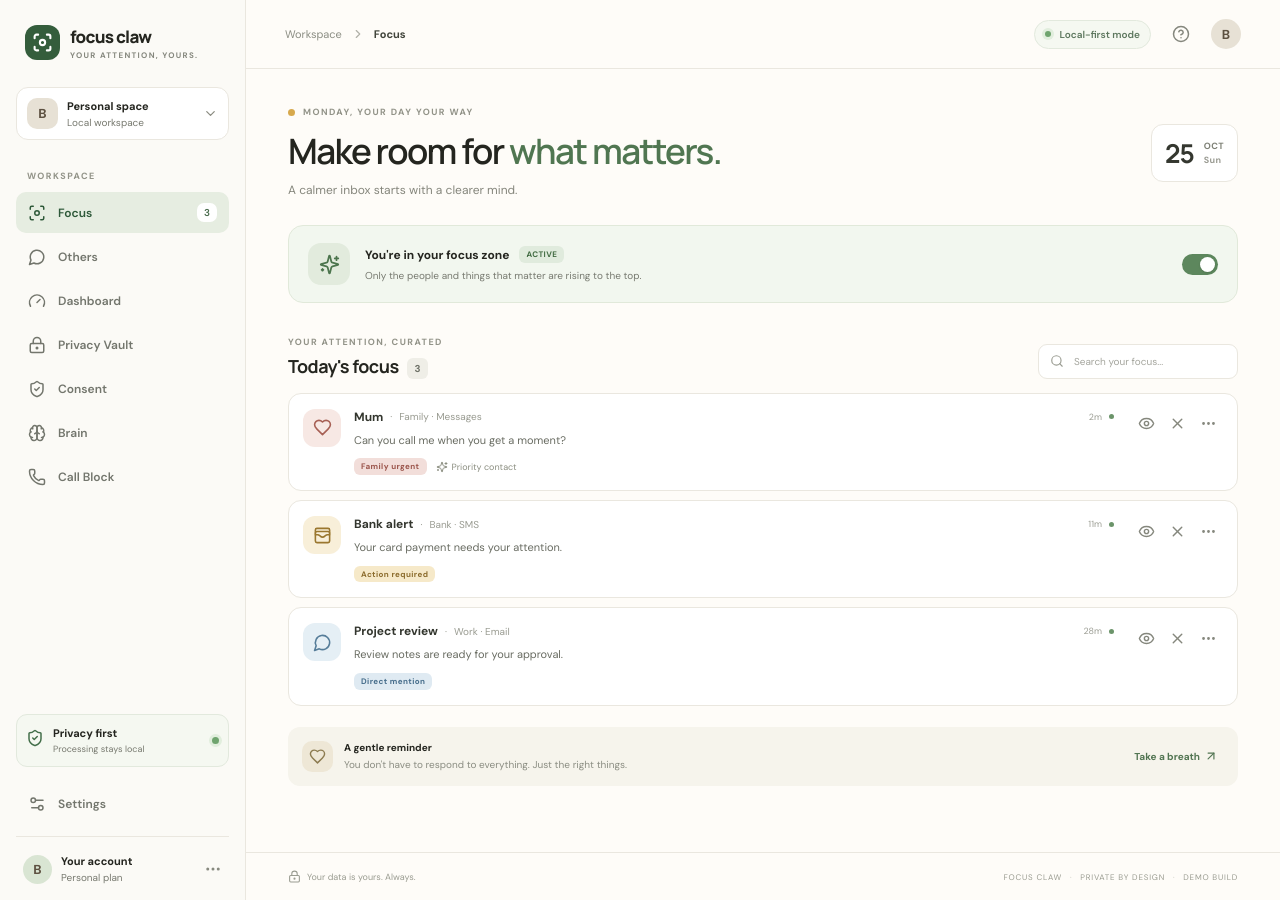
Scenario: Focus Claw demo › can add a local demo blocked number
Click the button "Call Block" at point(122, 477), box left=16, top=457, right=229, bottom=497
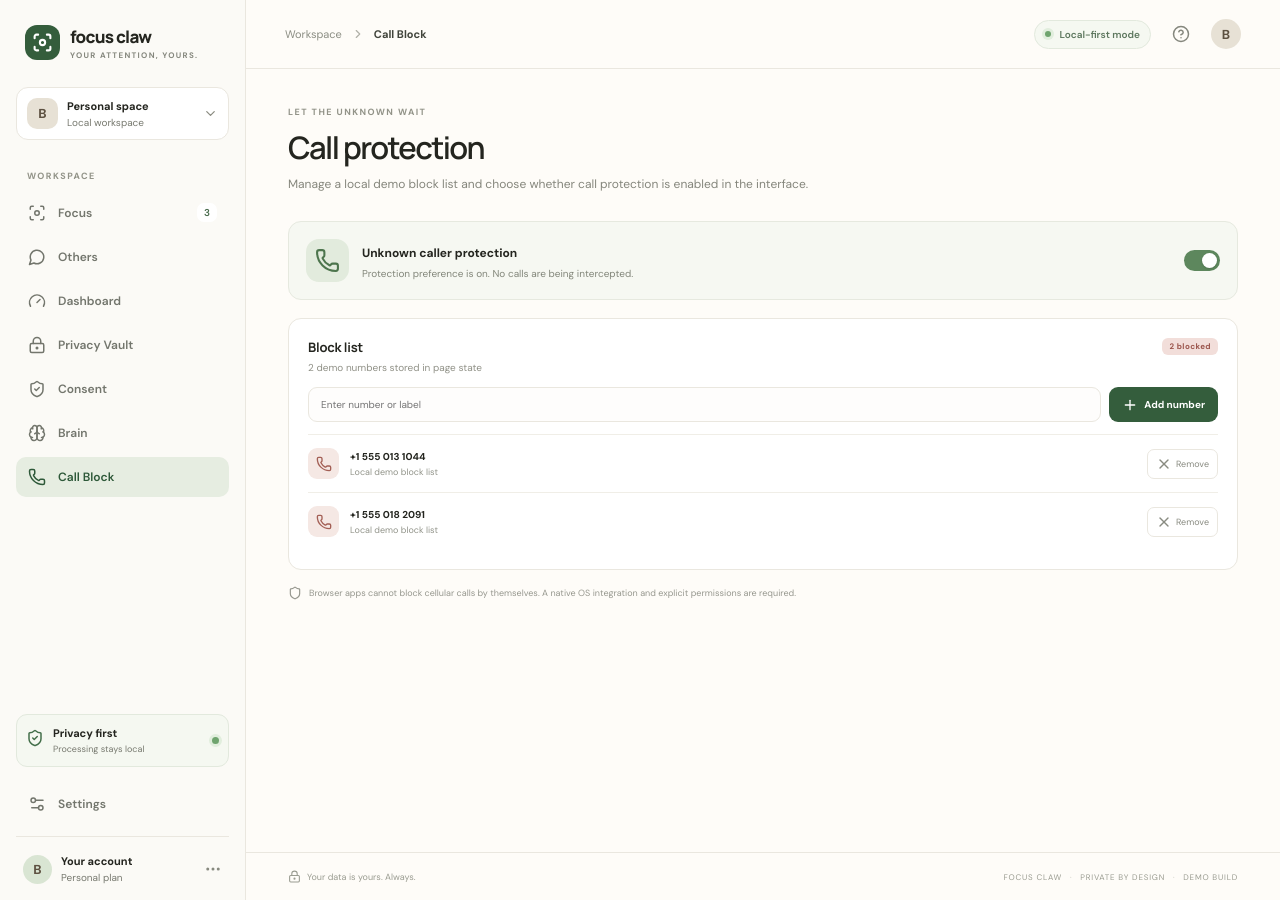
Type "+91 90000 00000" into the field named "Number to block" at point(705, 405), box left=308, top=387, right=1101, bottom=422
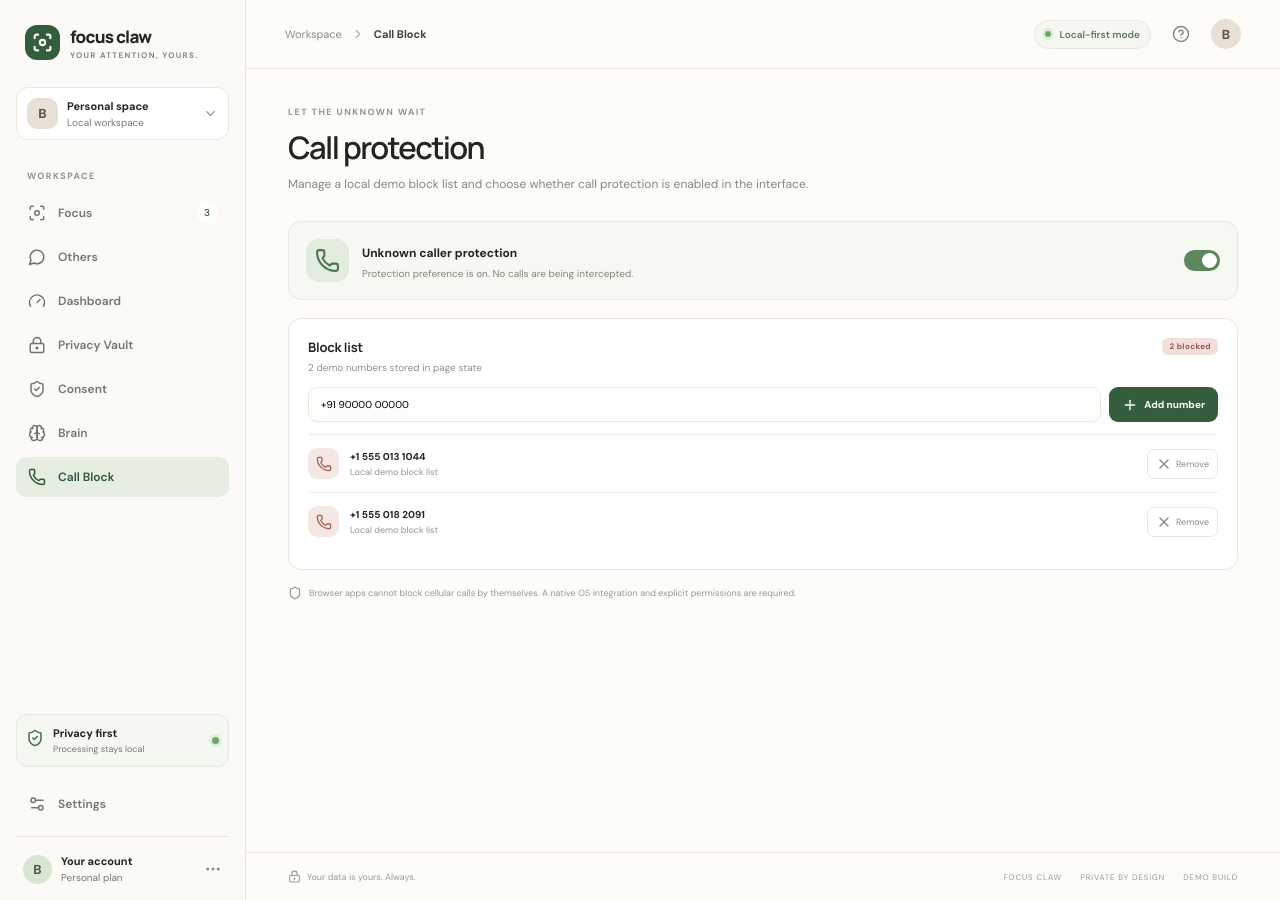
Click the button "Add number" at point(1164, 405), box left=1109, top=387, right=1218, bottom=422
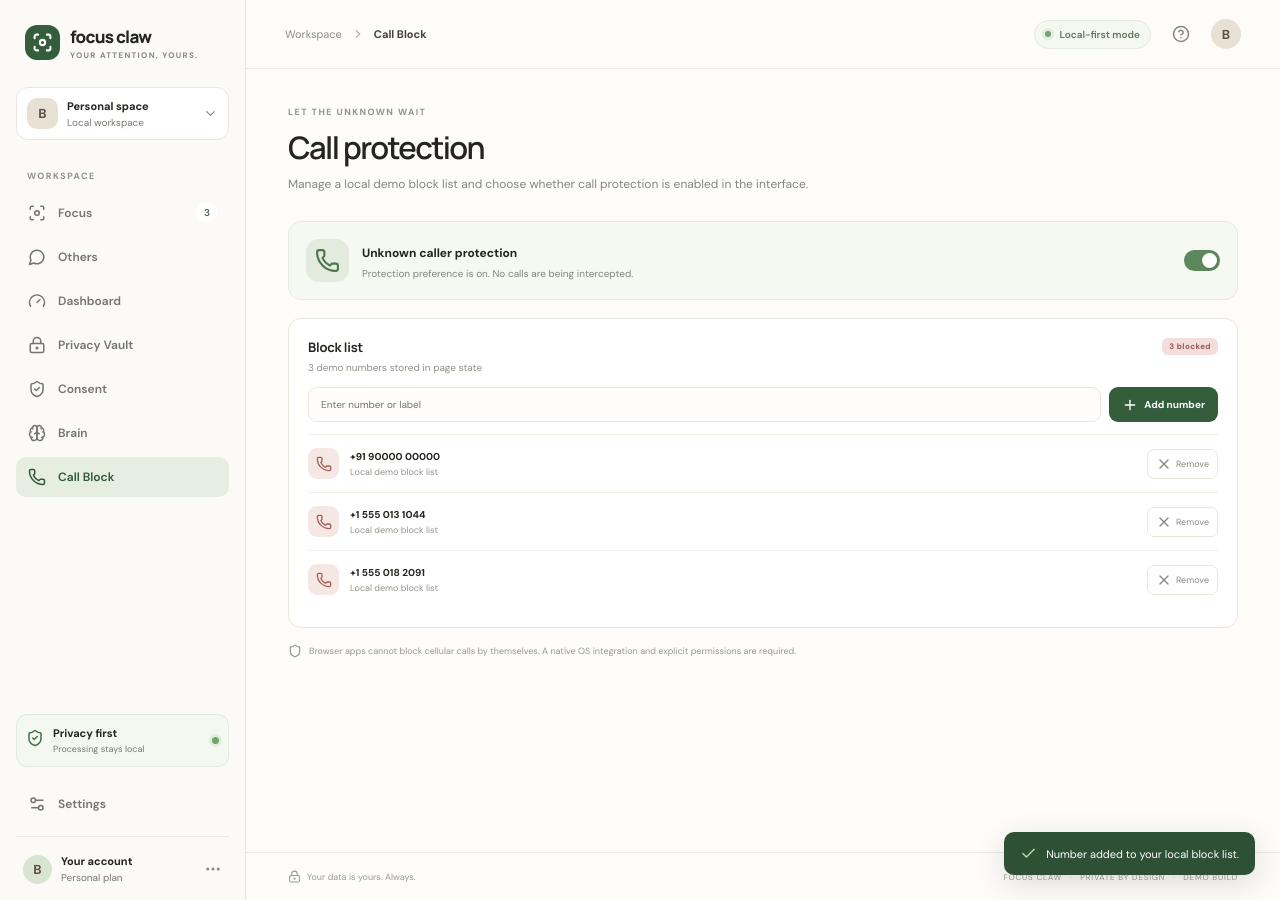
Check: the text "+91 90000 00000" is shown, box left=350, top=450, right=440, bottom=463
